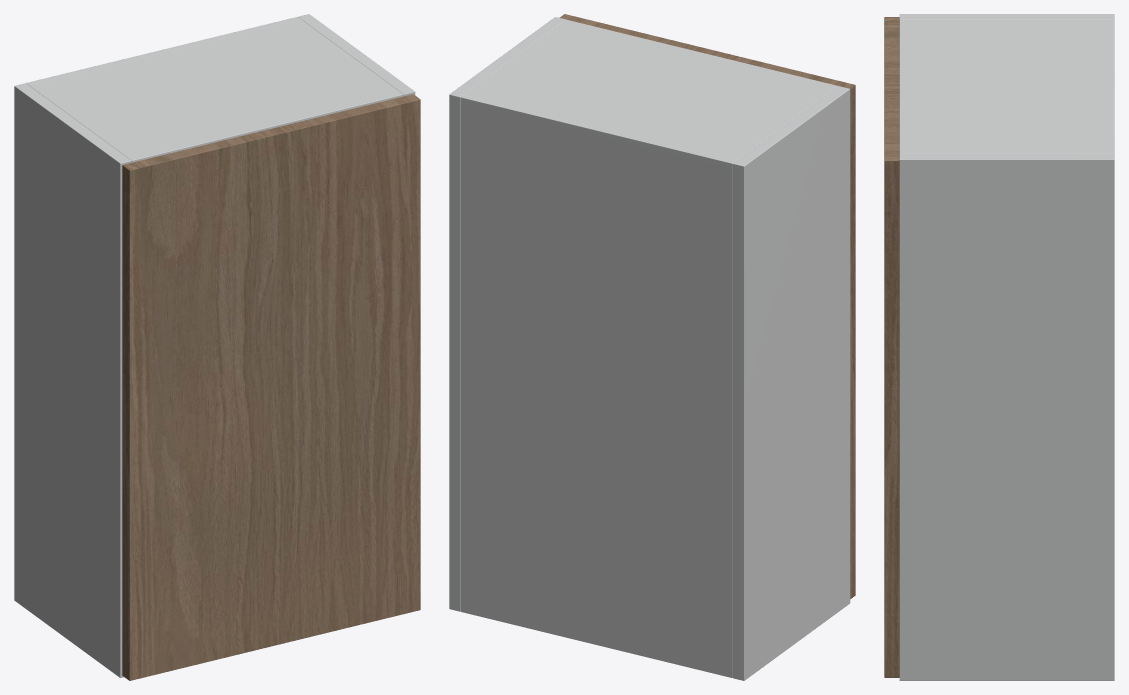
The model's file is oppein-pb-mnw-w1830.glb.
The picture shows the model from 3 angles, left to right: view 1: azimuth 30°, elevation 25°; view 2: azimuth 150°, elevation 25°; view 3: azimuth 270°, elevation 25°; orthographic projection.
Parts seen in each view (by area): view 1: Door, Cabinet side, Cabinet top, Cabinet side.001, Cabinet back; view 2: Cabinet back, Cabinet side, Cabinet top, Cabinet side.001, Door; view 3: Cabinet side.001, Cabinet top, Door, Cabinet side, Cabinet back.
Part boxes in pixels (box(x1,y1,x2,y2)): Door: box(122, 94, 420, 680); Cabinet side: box(14, 83, 131, 677); Cabinet top: box(26, 19, 403, 162); Cabinet side.001: box(298, 14, 415, 96); Cabinet back: box(27, 17, 300, 85); Cabinet back: box(461, 95, 735, 677); Cabinet side: box(732, 86, 850, 680); Cabinet top: box(461, 20, 838, 174); Cabinet side.001: box(449, 17, 566, 611); Door: box(559, 14, 855, 598); Cabinet side.001: box(899, 154, 1114, 680); Cabinet top: box(899, 19, 1114, 153); Door: box(884, 17, 899, 677); Cabinet side: box(899, 14, 1114, 19); Cabinet back: box(1106, 19, 1114, 153).
Bounding box in the file's own units: 0.4572 × 0.762 × 0.3048.
Materials: 2 (1 with a texture image).
